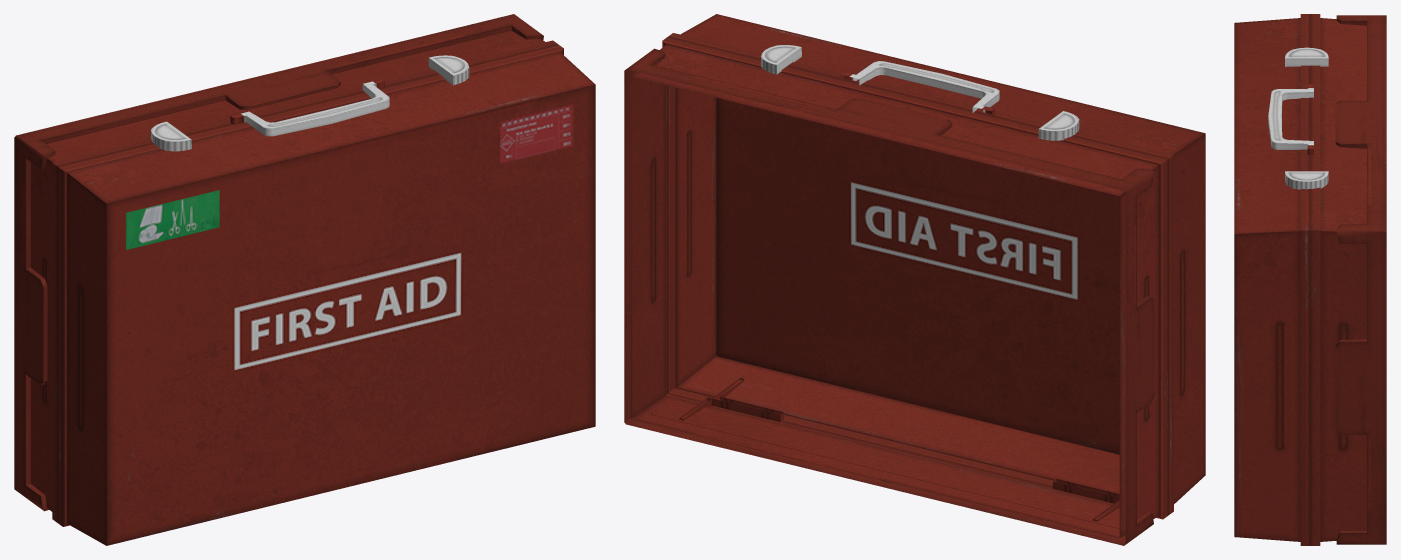
Rendered from ms_first_aid_kit_wall.fbx.
3 renders of one model, left to right at view 1: azimuth 30°, elevation 25°; view 2: azimuth 150°, elevation 25°; view 3: azimuth 270°, elevation 25°, orthographic. The views are drawn at different scales.
Visible parts, largest first — view 1: ms_first_aid_kit_wall; view 2: ms_first_aid_kit_wall; view 3: ms_first_aid_kit_wall.
Part boxes in pixels (left/top/right/bottom): ms_first_aid_kit_wall: left=14, top=14, right=595, bottom=545; ms_first_aid_kit_wall: left=624, top=14, right=1205, bottom=545; ms_first_aid_kit_wall: left=1234, top=14, right=1386, bottom=545.
Size of the model in its own units: 48.34 by 34.44 by 14.36.
